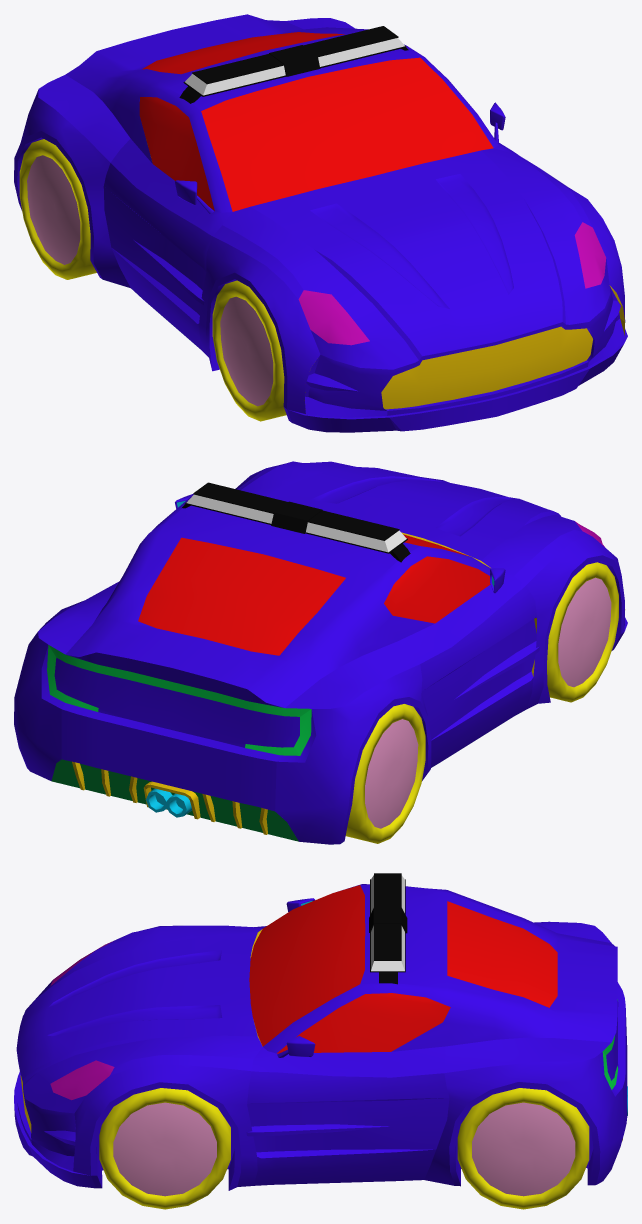
File: 13_BayonettOmegaPolice_ColorCoded.fbx
3 views of the same model, one above another, from view 1: azimuth 30°, elevation 25°; view 2: azimuth 150°, elevation 25°; view 3: azimuth 270°, elevation 25° (orthographic). The views are drawn at different scales.
Parts seen in each view (by area): view 1: Body, tireBackR, tireFrontR, police_light; view 2: Body, tireBackR, tireFrontR, police_light; view 3: Body, tireBackL, tireFrontL, police_light.
Boxes of the visible parts, bbox=[...] form: Body: bbox=[14, 14, 627, 432]; tireBackR: bbox=[19, 139, 96, 279]; tireFrontR: bbox=[212, 280, 286, 421]; police_light: bbox=[179, 26, 408, 103]; Body: bbox=[14, 461, 627, 844]; tireBackR: bbox=[345, 704, 425, 843]; tireFrontR: bbox=[547, 562, 618, 702]; police_light: bbox=[182, 482, 410, 562]; Body: bbox=[14, 884, 627, 1190]; tireBackL: bbox=[457, 1088, 589, 1209]; tireFrontL: bbox=[99, 1088, 230, 1209]; police_light: bbox=[369, 873, 407, 984].
Size of the model in its own units: 62.96 by 40.72 by 104.
